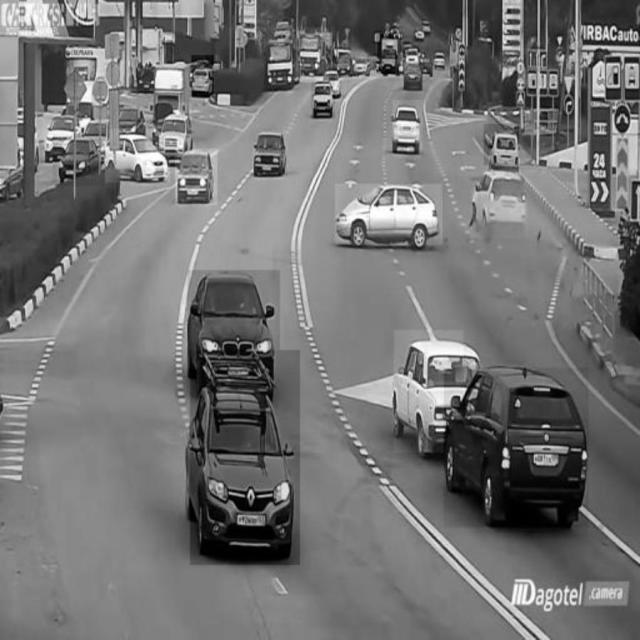vehicle: (191, 350, 301, 565), (444, 368, 588, 528), (188, 270, 280, 378), (395, 330, 465, 452), (335, 184, 443, 245), (471, 170, 527, 238), (106, 129, 170, 183), (53, 135, 105, 187), (176, 149, 218, 205), (43, 111, 80, 166), (157, 103, 191, 155), (296, 28, 328, 83), (251, 128, 288, 175), (267, 33, 297, 88), (392, 101, 422, 151), (484, 124, 519, 165), (311, 77, 335, 119), (400, 53, 425, 93), (377, 34, 402, 74), (192, 55, 214, 97)
